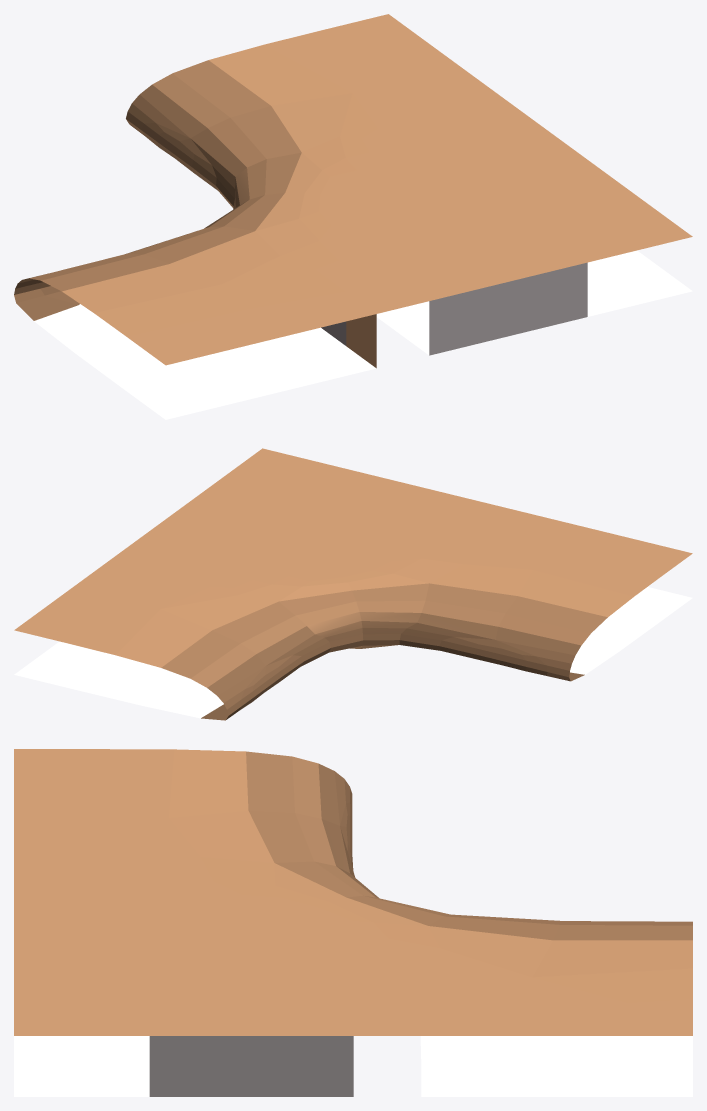
The model's file is soil_tile_1_2_3.fbx.
3 renders of one model, top to bottom at view 1: azimuth 30°, elevation 25°; view 2: azimuth 150°, elevation 25°; view 3: azimuth 270°, elevation 25°, orthographic. The views are drawn at different scales.
Parts seen in each view (by area): view 1: _Corner_1_2_3_.001; view 2: _Corner_1_2_3_.001; view 3: _Corner_1_2_3_.001.
Part boxes in pixels (x1,y1,x2,y2): _Corner_1_2_3_.001: (14,14,692,419); _Corner_1_2_3_.001: (14,448,692,720); _Corner_1_2_3_.001: (14,749,692,1096).
Size of the model in its own units: 1 by 1 by 0.0988.
